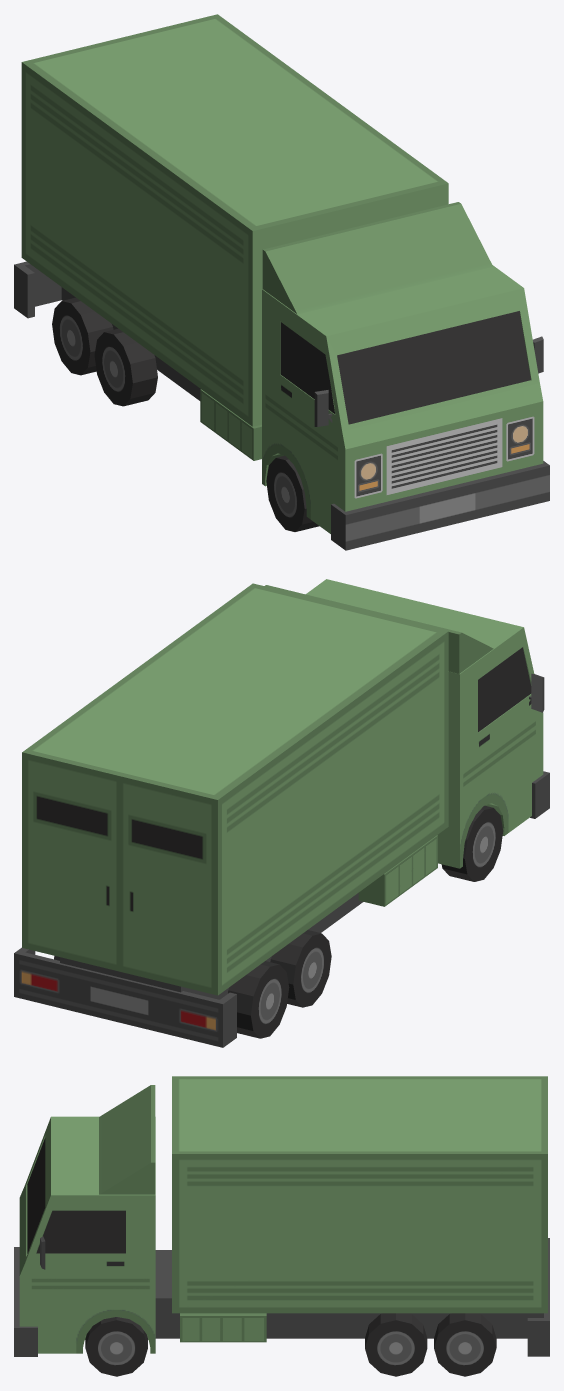
File: vehicle-container-color01.glb
The picture shows the model from 3 angles, top to bottom: view 1: azimuth 30°, elevation 25°; view 2: azimuth 150°, elevation 25°; view 3: azimuth 270°, elevation 25°; orthographic projection. The views are drawn at different scales.
Visible parts, largest first — view 1: model; view 2: model; view 3: model.
Part boxes in pixels (bbox=[...]): model: bbox=[14, 14, 549, 550]; model: bbox=[14, 579, 549, 1047]; model: bbox=[14, 1076, 549, 1376].
Bounding box in the file's own units: 3.63 × 4.16 × 9.09.
Materials: 1 (1 with a texture image).
